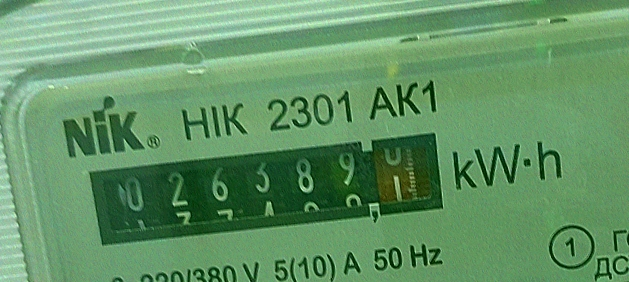0: (120, 173, 146, 214), (382, 145, 402, 167)
1: (389, 171, 404, 204)
2: (164, 168, 190, 209)
3: (250, 160, 271, 196)
6: (207, 163, 229, 204)
8: (292, 155, 316, 195)
9: (336, 151, 356, 186)
screen: (73, 120, 459, 258)
